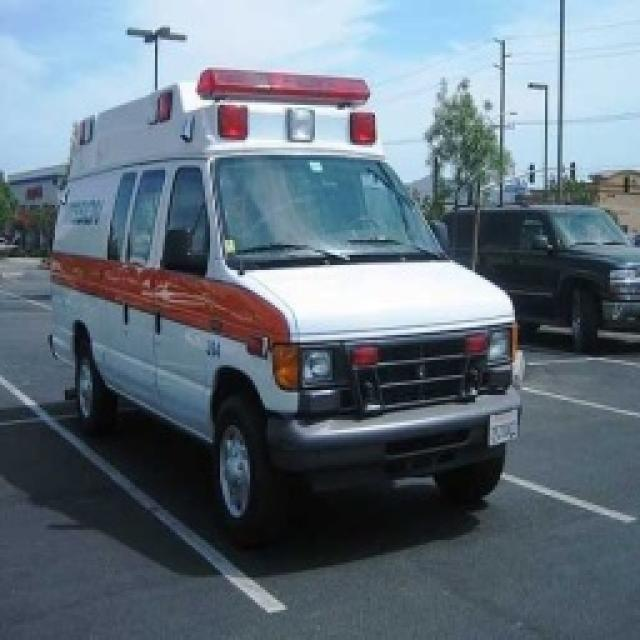emergency-vehicle: (53, 64, 525, 542)
